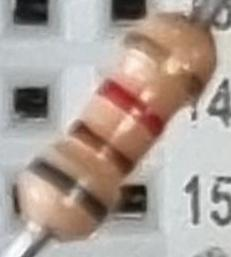Brown: (67, 120, 138, 178)
Green: (27, 156, 109, 222)
Red: (97, 78, 166, 139)
Side-Silver: (125, 31, 207, 99)
